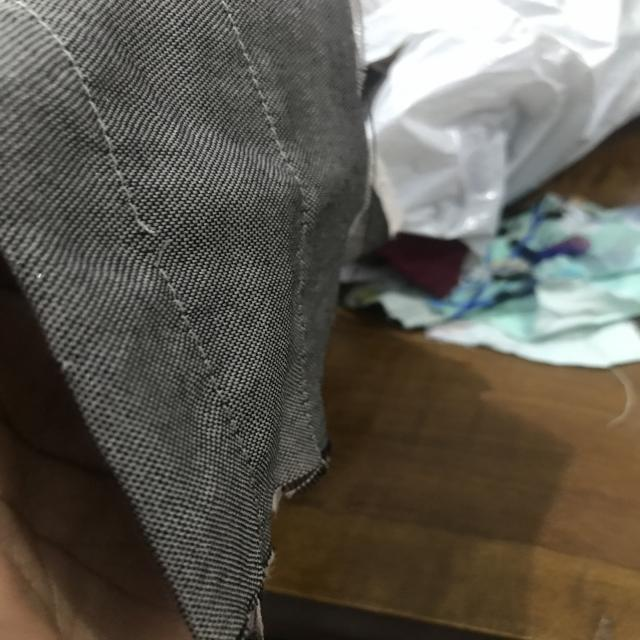broken: (121, 201, 194, 282)
